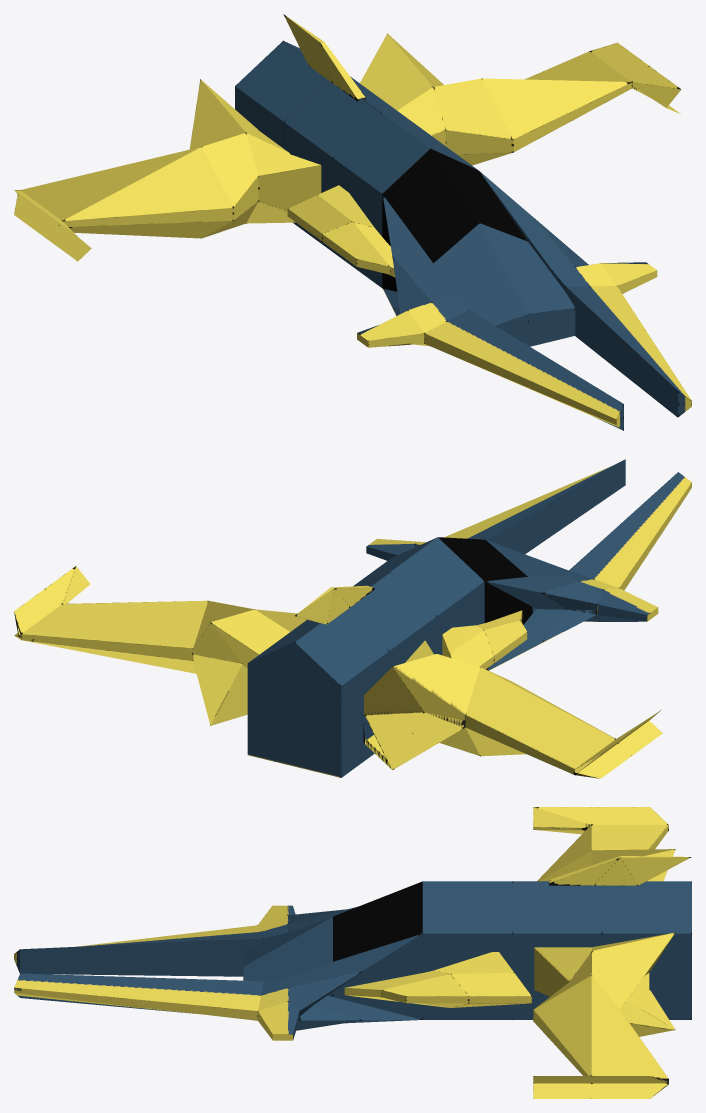
Rendered from player.obj.
The picture shows the model from 3 angles, top to bottom: view 1: azimuth 30°, elevation 25°; view 2: azimuth 150°, elevation 25°; view 3: azimuth 270°, elevation 25°; orthographic projection. The views are drawn at different scales.
Visible parts, largest first — view 1: 立方体.001_立方体.002, 立方体_立方体.001, Cube.006_Cube.014, Cube.008_Cube.019, Cube.003, Cube.002, Cube.005, Cube.001, Cube.007, 立方体.002_立方体, 立方体.003; view 2: 立方体.001_立方体.002, 立方体_立方体.001, Cube.007, Cube.006_Cube.014, Cube.008_Cube.019, Cube.005, Cube.001, Cube.002, 立方体.002_立方体, 立方体.003, Cube.003; view 3: 立方体_立方体.001, Cube.008_Cube.019, Cube.006_Cube.014, Cube.005, Cube.007, Cube.001, Cube.002, 立方体.001_立方体.002, 立方体.002_立方体, Cube.003, 立方体.003.
Boxes of the visible parts, box(x1,y1,x2,y2) form: 立方体.001_立方体.002: box(14, 79, 321, 261); 立方体_立方体.001: box(360, 33, 680, 165); Cube.006_Cube.014: box(357, 194, 623, 430); Cube.008_Cube.019: box(479, 171, 691, 417); Cube.003: box(433, 223, 575, 346); Cube.002: box(382, 148, 527, 291); Cube.005: box(333, 112, 477, 287); Cube.001: box(284, 80, 428, 251); Cube.007: box(235, 40, 379, 148); 立方体.002_立方体: box(287, 185, 395, 276); 立方体.003: box(283, 14, 365, 101); 立方体.001_立方体.002: box(363, 640, 662, 778); 立方体_立方体.001: box(14, 566, 306, 725); Cube.007: box(247, 611, 388, 777); Cube.006_Cube.014: box(485, 472, 691, 670); Cube.008_Cube.019: box(366, 459, 625, 560); Cube.005: box(353, 537, 484, 655); Cube.001: box(296, 572, 436, 669); Cube.002: box(438, 537, 532, 669); 立方体.002_立方体: box(442, 610, 527, 669); 立方体.003: box(295, 585, 374, 624); Cube.003: box(486, 540, 567, 613); 立方体_立方体.001: box(533, 932, 675, 1098); Cube.008_Cube.019: box(14, 934, 421, 1040); Cube.006_Cube.014: box(14, 905, 356, 976); Cube.005: box(422, 881, 512, 1019); Cube.007: box(602, 881, 691, 1019); Cube.001: box(512, 881, 602, 1019); Cube.002: box(333, 881, 422, 1019); 立方体.001_立方体.002: box(533, 807, 675, 881); 立方体.002_立方体: box(344, 952, 531, 1007); Cube.003: box(243, 916, 332, 996); 立方体.003: box(549, 856, 691, 885).
Size of the model in its own units: 4.17 by 1.02 by 4.44.
11 materials, 11 textured.
